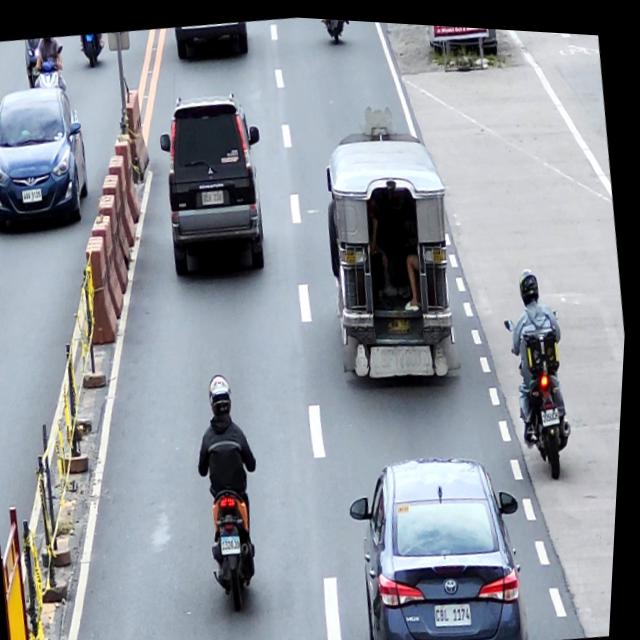Car: (342, 436, 544, 640), (151, 84, 281, 282), (0, 79, 101, 242), (173, 15, 251, 62)
Jeep: (312, 118, 475, 388)
License-Plate: (440, 595, 479, 624), (387, 310, 416, 332), (225, 531, 247, 553), (544, 401, 565, 422), (203, 187, 226, 203), (24, 188, 45, 204)
Motorcycle: (500, 303, 586, 476), (200, 450, 276, 612), (26, 41, 70, 91), (79, 32, 105, 70), (322, 15, 348, 44)
